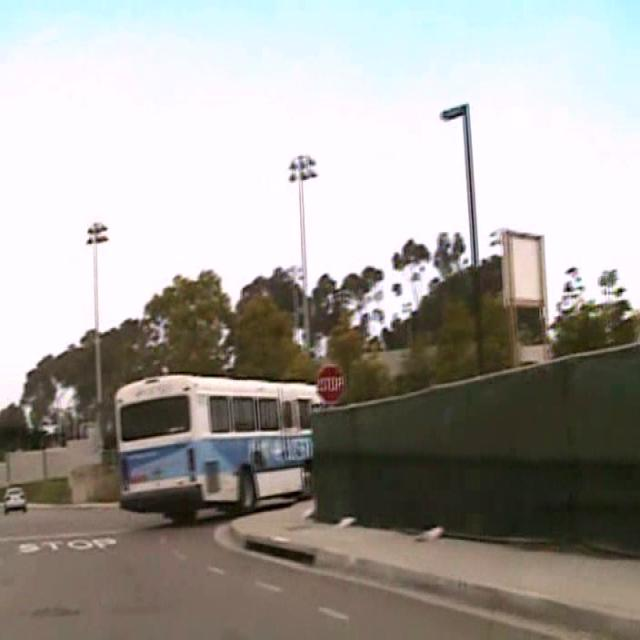stop: (316, 363, 346, 404)
